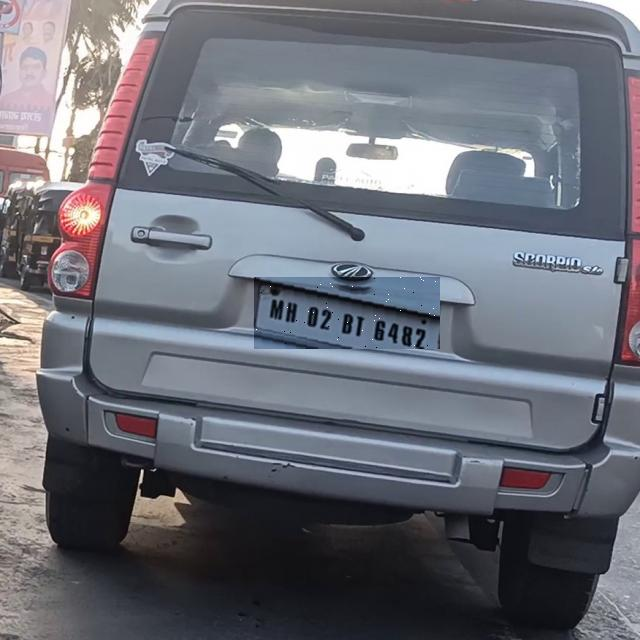Plate: (255, 278, 441, 350)
